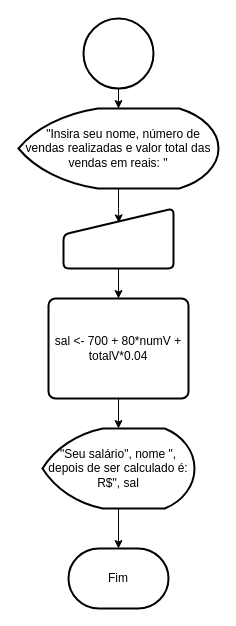
The diagram is 236 pixels wide and 626 high, and some of its shapes have lost their labels. Here are the shapes that lost their labels. From the top down, the centre of each, then its label:
(118,53): Início
(118,238): nome, numV, totalV
